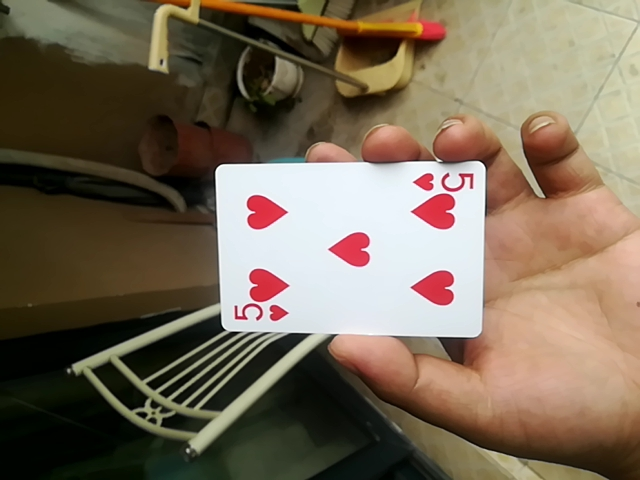hx 5: (213, 157, 483, 335)
